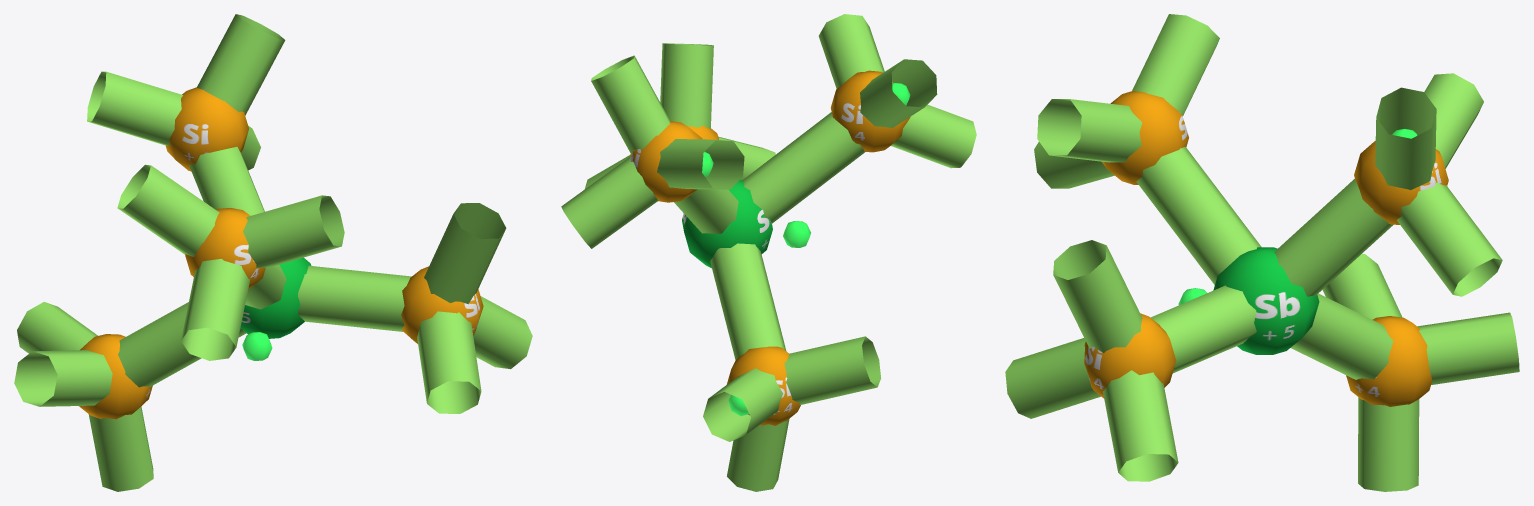
File: chat ban dan N.fbx
3 views of the same model, side by side, from view 1: azimuth 30°, elevation 25°; view 2: azimuth 150°, elevation 25°; view 3: azimuth 270°, elevation 25° (orthographic). The views are drawn at different scales.
Parts seen in each view (by area): view 1: pCylinder3, pCylinder16, pCylinder5, pCylinder15, pCylinder6, pCylinder7, pCylinder12, pCylinder10, pCylinder9, proton4, pCylinder13, pCylinder1 (+9 smaller); view 2: pCylinder2, pCylinder1, pCylinder12, pCylinder8, pCylinder10, pCylinder15, pCylinder9, pCylinder11, pCylinder5, pCylinder7, pCylinder13, proton (+7 smaller); view 3: pCylinder2, pCylinder4, pCylinder8, pCylinder15, pCylinder14, proton, pCylinder6, pCylinder11, pCylinder3, pCylinder13, pCylinder10, pCylinder1 (+9 smaller).
Part boxes in pixels (left/top/right/bottom): pCylinder3: left=298, top=265, right=411, bottom=331; pCylinder16: left=417, top=311, right=481, bottom=413; pCylinder5: left=181, top=258, right=250, bottom=360; pCylinder15: left=424, top=203, right=506, bottom=304; pCylinder6: left=243, top=195, right=344, bottom=268; pCylinder7: left=117, top=164, right=219, bottom=256; pCylinder12: left=14, top=350, right=112, bottom=406; pCylinder10: left=197, top=14, right=285, bottom=115; pCylinder9: left=87, top=71, right=183, bottom=145; proton4: left=165, top=87, right=248, bottom=171; pCylinder13: left=88, top=406, right=153, bottom=491; pCylinder1: left=118, top=302, right=246, bottom=387; pCylinder2: left=742, top=112, right=865, bottom=223; pCylinder1: left=710, top=243, right=786, bottom=359; pCylinder12: left=784, top=336, right=881, bottom=404; pCylinder8: left=561, top=156, right=658, bottom=248; pCylinder10: left=591, top=55, right=670, bottom=155; pCylinder15: left=660, top=43, right=713, bottom=129; pCylinder9: left=657, top=139, right=744, bottom=189; pCylinder11: left=703, top=368, right=782, bottom=441; pCylinder5: left=891, top=104, right=976, bottom=168; pCylinder7: left=860, top=59, right=937, bottom=127; pCylinder13: left=727, top=419, right=789, bottom=491; proton: left=682, top=180, right=772, bottom=268; pCylinder2: left=1136, top=146, right=1261, bottom=284; pCylinder4: left=1274, top=178, right=1393, bottom=296; pCylinder8: left=1397, top=182, right=1502, bottom=296; pCylinder15: left=1053, top=240, right=1142, bottom=352; pCylinder14: left=1103, top=370, right=1178, bottom=481; proton: left=1213, top=247, right=1319, bottom=354; pCylinder6: left=1037, top=99, right=1142, bottom=162; pCylinder11: left=1417, top=312, right=1519, bottom=384; pCylinder3: left=1150, top=285, right=1256, bottom=373; pCylinder13: left=1358, top=397, right=1419, bottom=491; pCylinder10: left=1375, top=87, right=1436, bottom=190; pCylinder1: left=1291, top=293, right=1393, bottom=379.
Size of the model in its own units: 75.31 by 75.73 by 75.7.
Materials: 4 (2 with a texture image).
